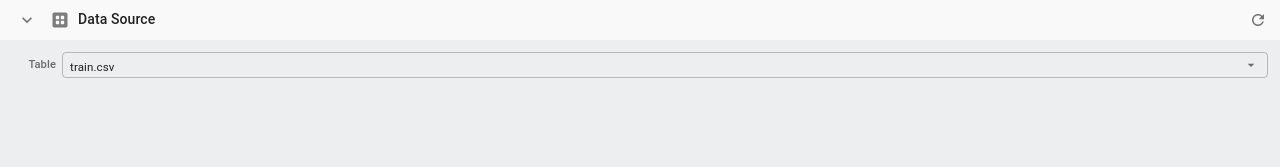
it: CompactMetadataSelector › portals the Kaggle table list so Fields cannot cover it
The width and height of the screenshot is (1280, 167).
Press the mouse on the dropdown with placeholder "Search Table" at (656, 65), box [70,52,1242,78]
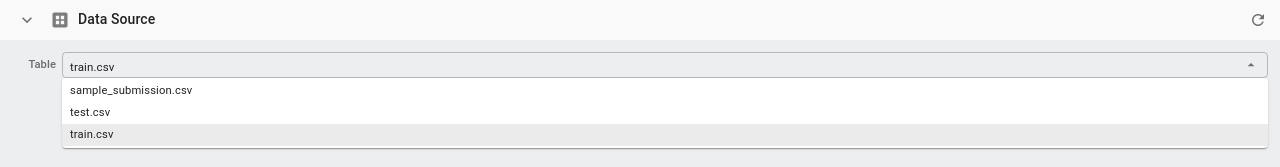
expect the list is shown: met, box [62,78,1268,148]
expect the option "test.csv" is shown: met, box [70,106,110,119]
